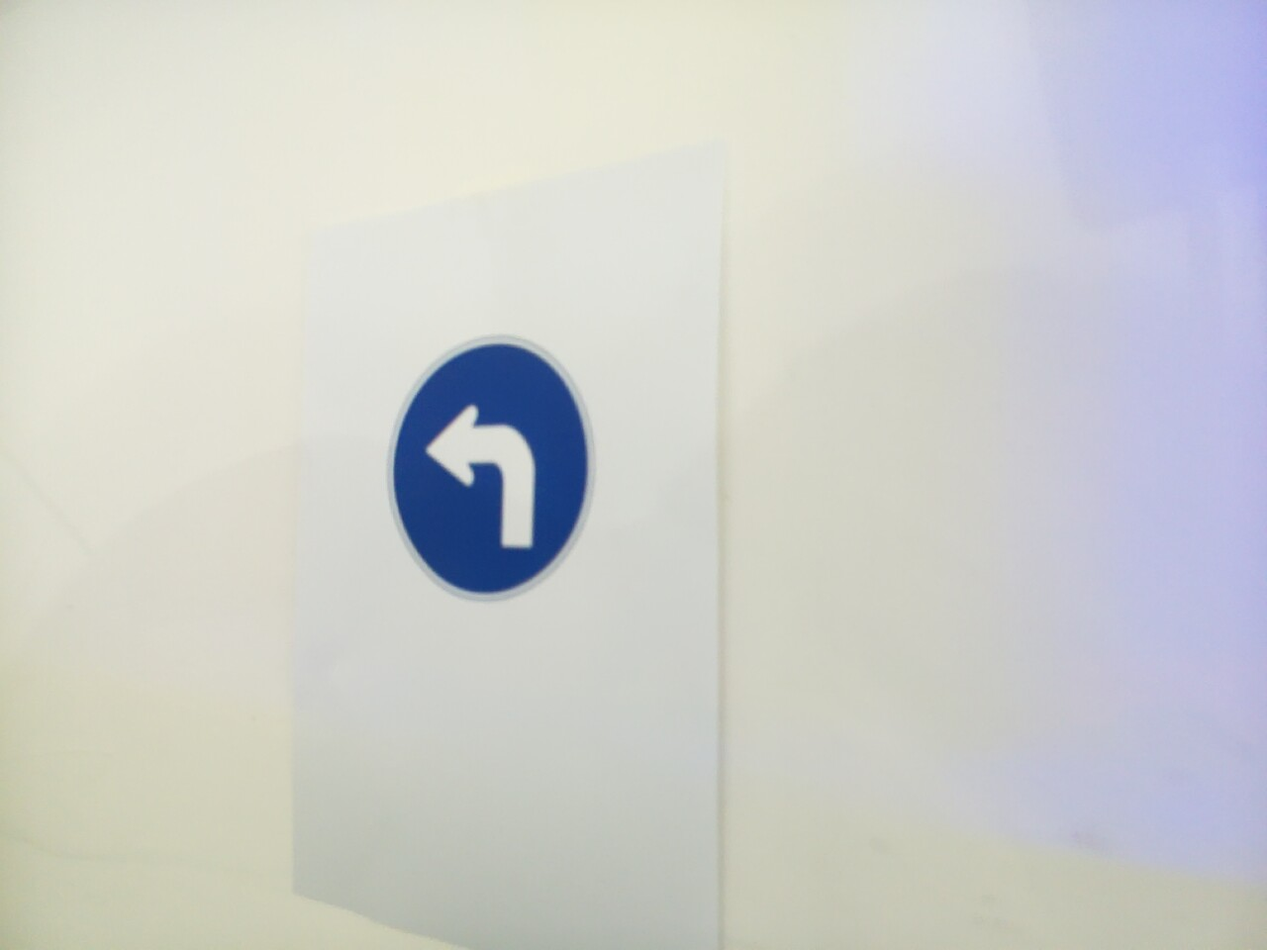left_turn: (385, 334, 596, 603)
